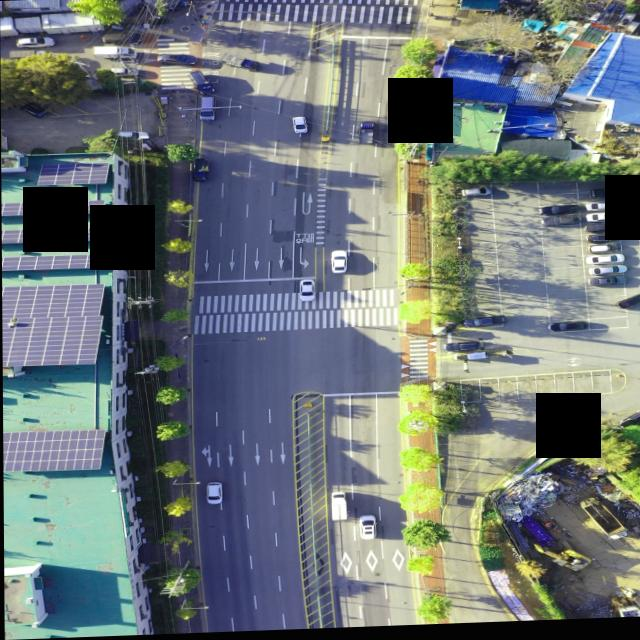car: (186, 70, 214, 95), (156, 53, 198, 66), (459, 319, 504, 330), (19, 101, 49, 117), (592, 191, 635, 202), (14, 36, 56, 47), (541, 220, 581, 231), (358, 516, 376, 540), (199, 98, 217, 122), (103, 33, 142, 44), (587, 215, 625, 226), (443, 344, 481, 355), (585, 258, 623, 269), (550, 324, 587, 335), (582, 226, 622, 236), (588, 280, 626, 290), (331, 253, 348, 275), (116, 130, 150, 141), (206, 482, 222, 504), (300, 280, 316, 302), (587, 204, 625, 213), (584, 238, 621, 247), (589, 269, 625, 278), (111, 66, 139, 77), (545, 207, 577, 216), (292, 119, 308, 136), (463, 191, 491, 200), (587, 249, 617, 257)
small_truck: (220, 53, 266, 74), (328, 493, 350, 524), (92, 47, 136, 60), (9, 49, 53, 60), (193, 159, 212, 183), (356, 122, 374, 146)
